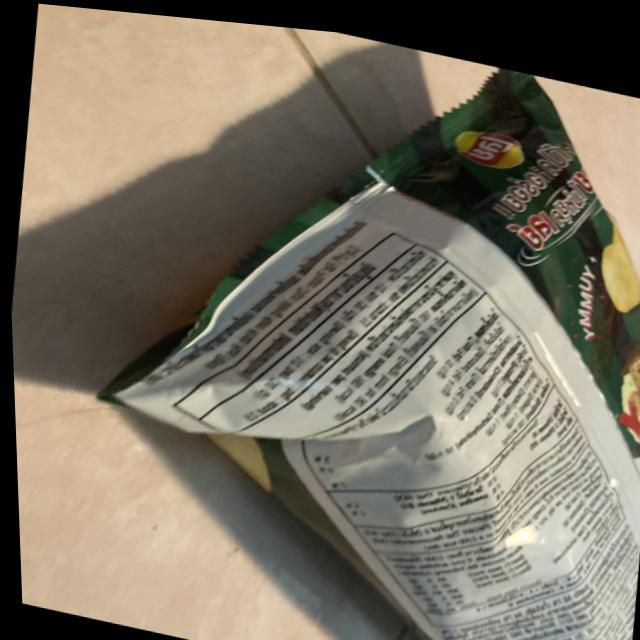Laygreen: (48, 4, 640, 640)
